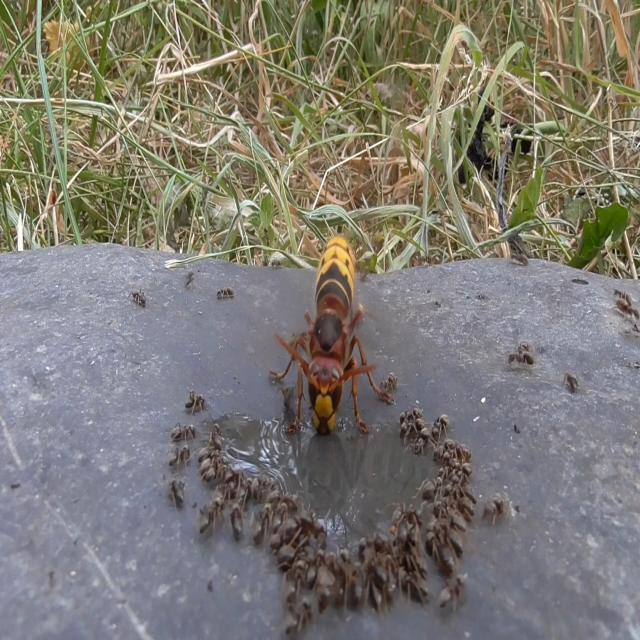Hornets: (268, 209, 389, 456)
